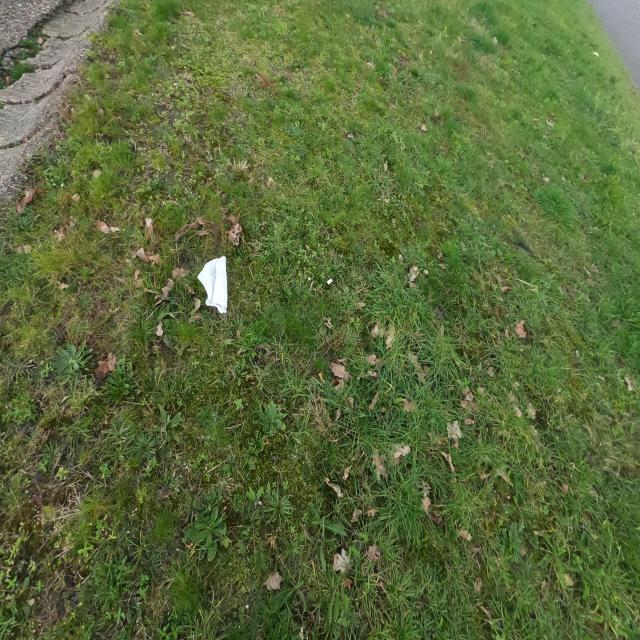Paper: (196, 254, 229, 316)
